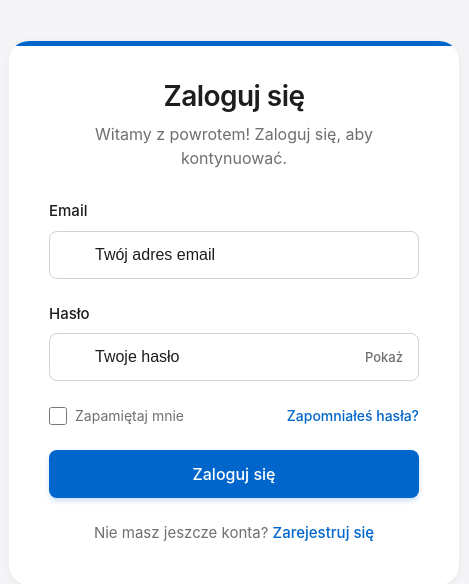
Test: <LoginPage /> › shows validation errors if fields are empty on submit
Click the button "Zaloguj się" at (234, 474), box [49,450,419,498]
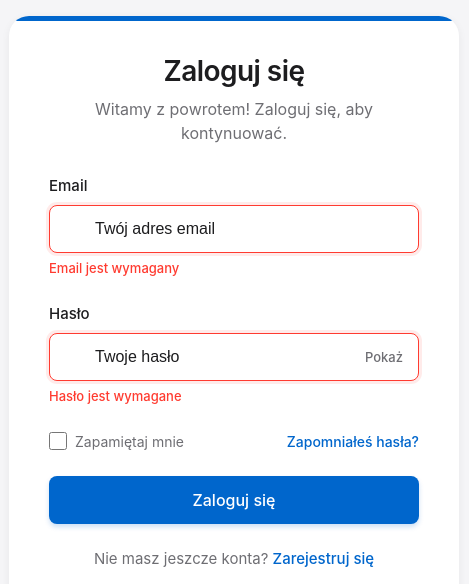
Result: the text "Email jest wymagany" is shown at [49,260,179,276]
Result: the text "Hasło jest wymagane" is shown at [49,388,182,404]
